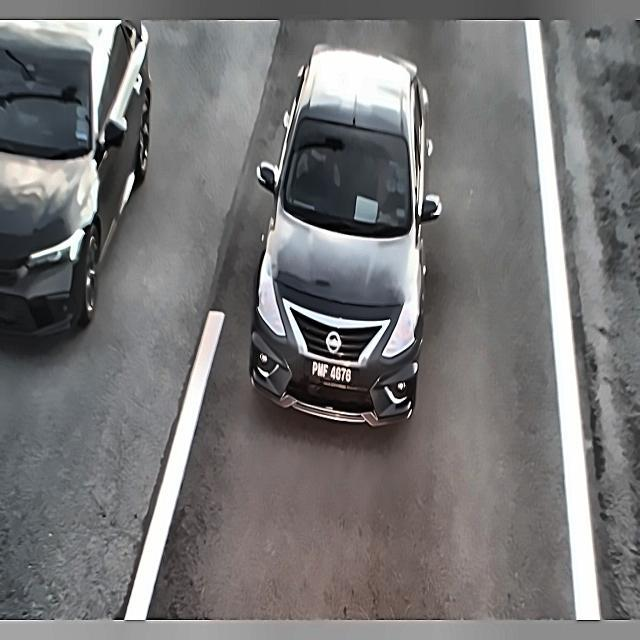car: (302, 358, 366, 392)
